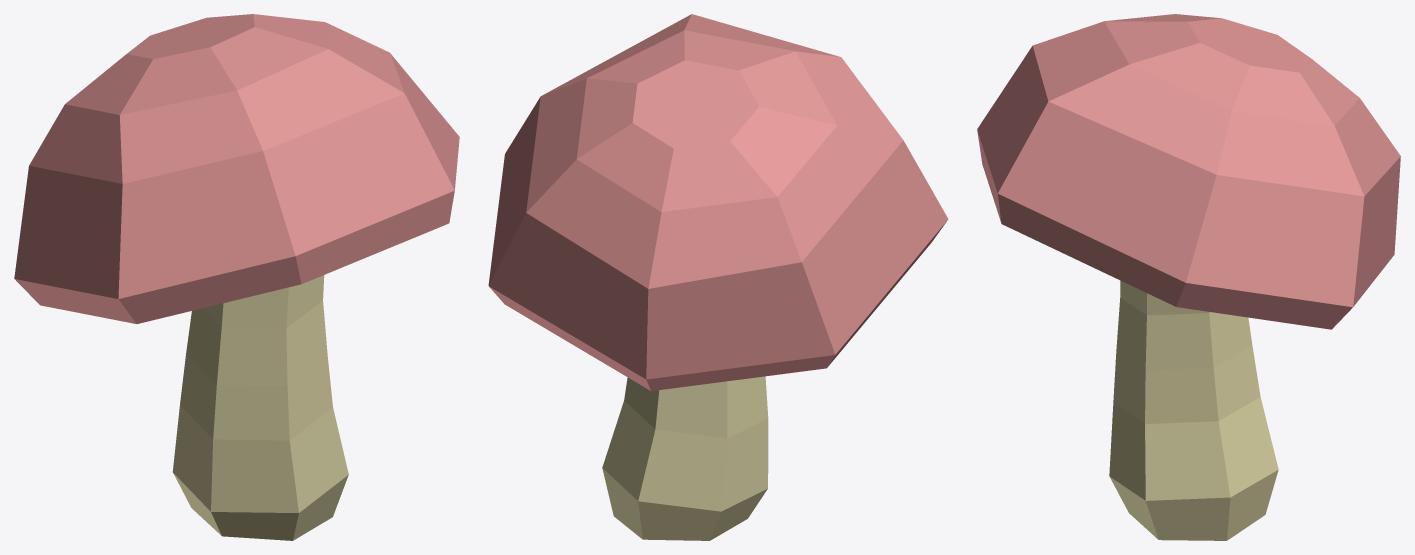
The model's file is SM_Mushroom2.fbx.
3 renders of one model, left to right at view 1: azimuth 30°, elevation 25°; view 2: azimuth 150°, elevation 25°; view 3: azimuth 270°, elevation 25°, orthographic. The views are drawn at different scales.
Parts seen in each view (by area): view 1: Mushroom2; view 2: Mushroom2; view 3: Mushroom2.
Part boxes in pixels (left/top/right/bottom): Mushroom2: left=14, top=14, right=459, bottom=540; Mushroom2: left=488, top=14, right=948, bottom=540; Mushroom2: left=977, top=14, right=1400, bottom=540.
Size of the model in its own units: 5.51 by 6.34 by 5.18.
